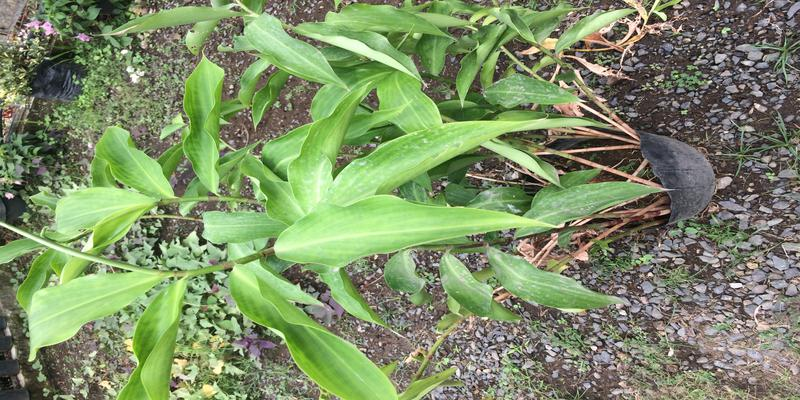Insulin: (175, 20, 650, 301)
